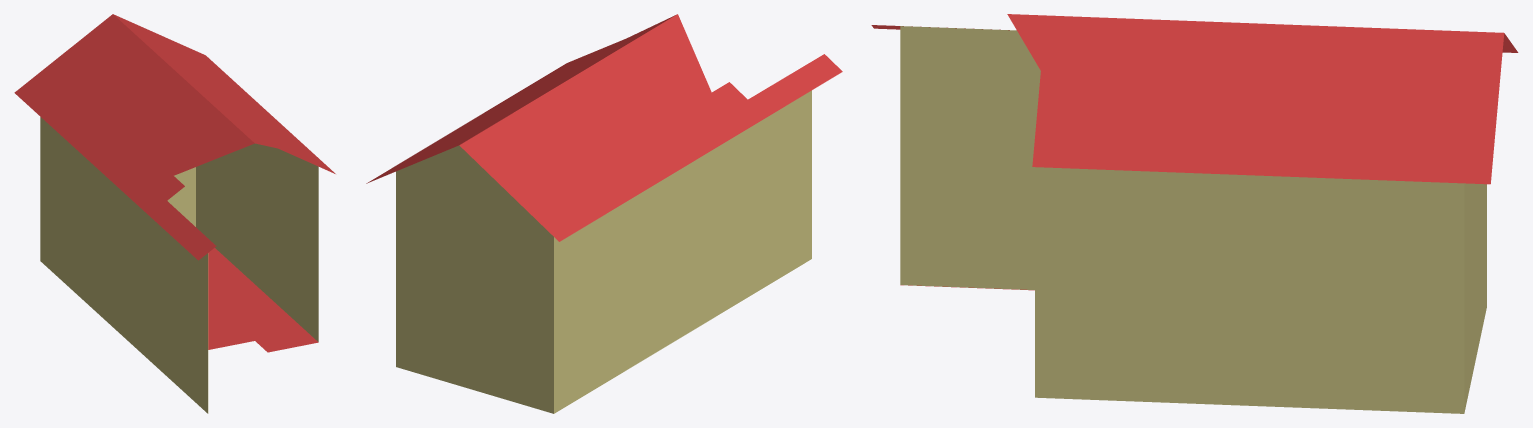
3 renders of one model, left to right at view 1: azimuth 30°, elevation 25°; view 2: azimuth 150°, elevation 25°; view 3: azimuth 270°, elevation 25°, orthographic. The views are drawn at different scales.
Bounding box in the file's own units: 9.46 × 16.61 × 9.37.
